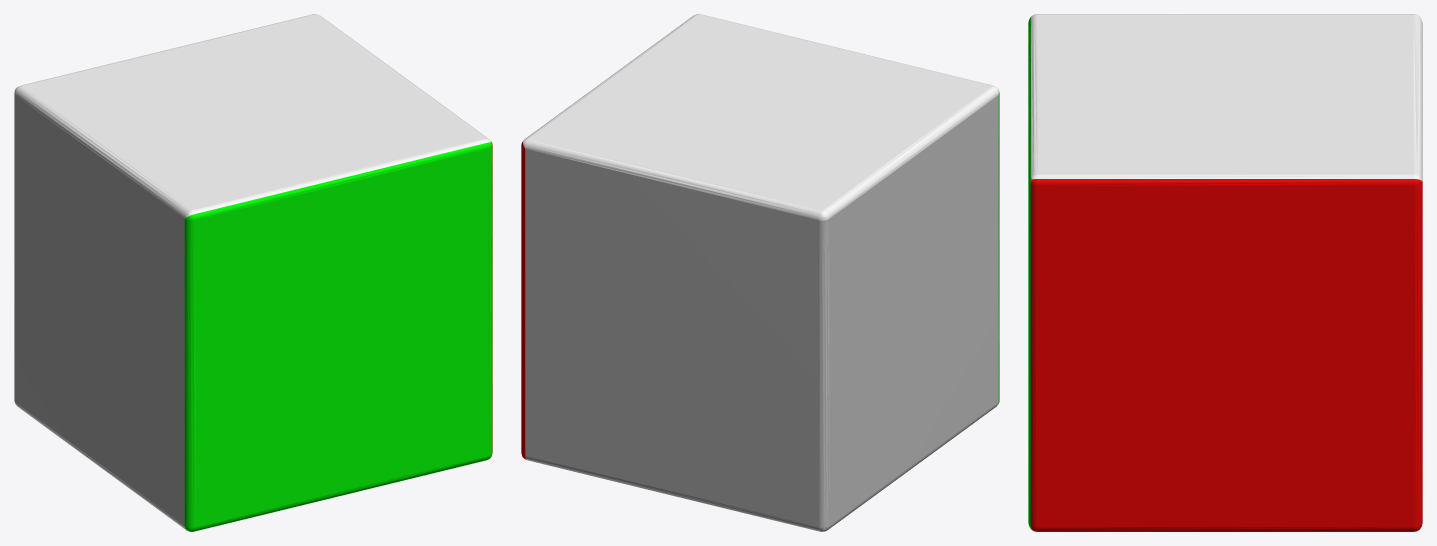
Rendered from URF.obj.
The picture shows the model from 3 angles, left to right: view 1: azimuth 30°, elevation 25°; view 2: azimuth 150°, elevation 25°; view 3: azimuth 270°, elevation 25°; orthographic projection. The views are drawn at different scales.
Visible parts, largest first — view 1: corner_URF; view 2: corner_URF; view 3: corner_URF.
Boxes of the visible parts, bbox=[...] form: corner_URF: bbox=[14, 14, 492, 531]; corner_URF: bbox=[521, 14, 999, 531]; corner_URF: bbox=[1028, 14, 1422, 531].
Bounding box in the file's own units: 0.2003 × 0.2003 × 0.2003.
Materials: 1 (1 with a texture image).
